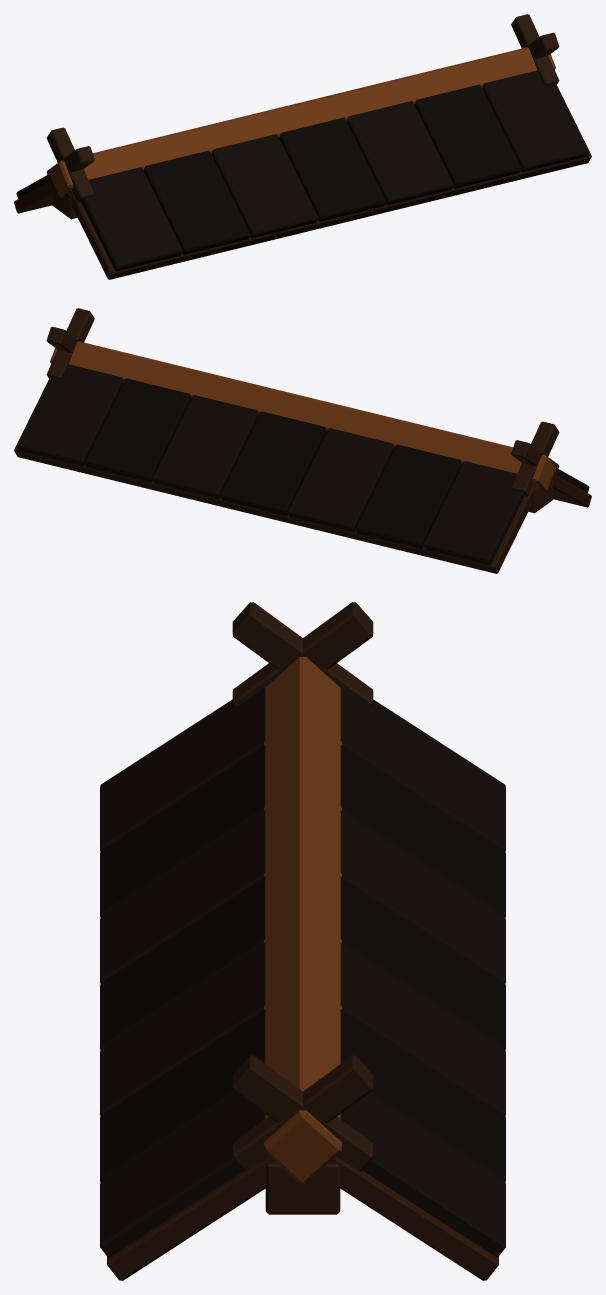
Rendered from mod_roof_ridge_2m.glb.
3 renders of one model, top to bottom at view 1: azimuth 30°, elevation 25°; view 2: azimuth 150°, elevation 25°; view 3: azimuth 270°, elevation 25°, orthographic. The views are drawn at different scales.
Parts seen in each view (by area): view 1: Mod_Roof_Ridge_2m; view 2: Mod_Roof_Ridge_2m; view 3: Mod_Roof_Ridge_2m.
Part boxes in pixels (left/top/right/bottom): Mod_Roof_Ridge_2m: left=14, top=14, right=591, bottom=279; Mod_Roof_Ridge_2m: left=14, top=308, right=591, bottom=573; Mod_Roof_Ridge_2m: left=100, top=602, right=505, bottom=1280.
Bounding box in the file's own units: 2.06 × 0.4288 × 0.742.
